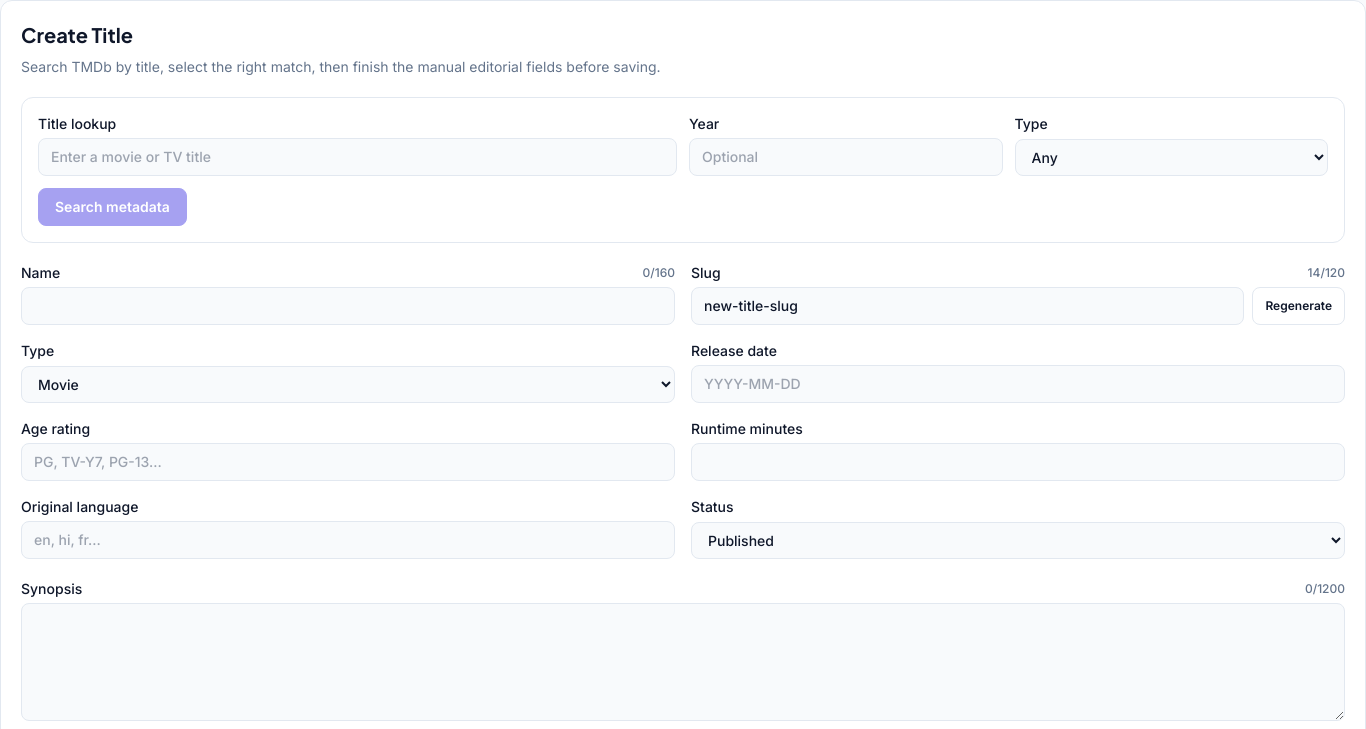
Test case: AdminTitleForm › shows extracted production details in the metadata area after autofill
Type "Severance" into the field labelled "Title lookup". click: (358, 157)
box: 38,138 -> 677,176
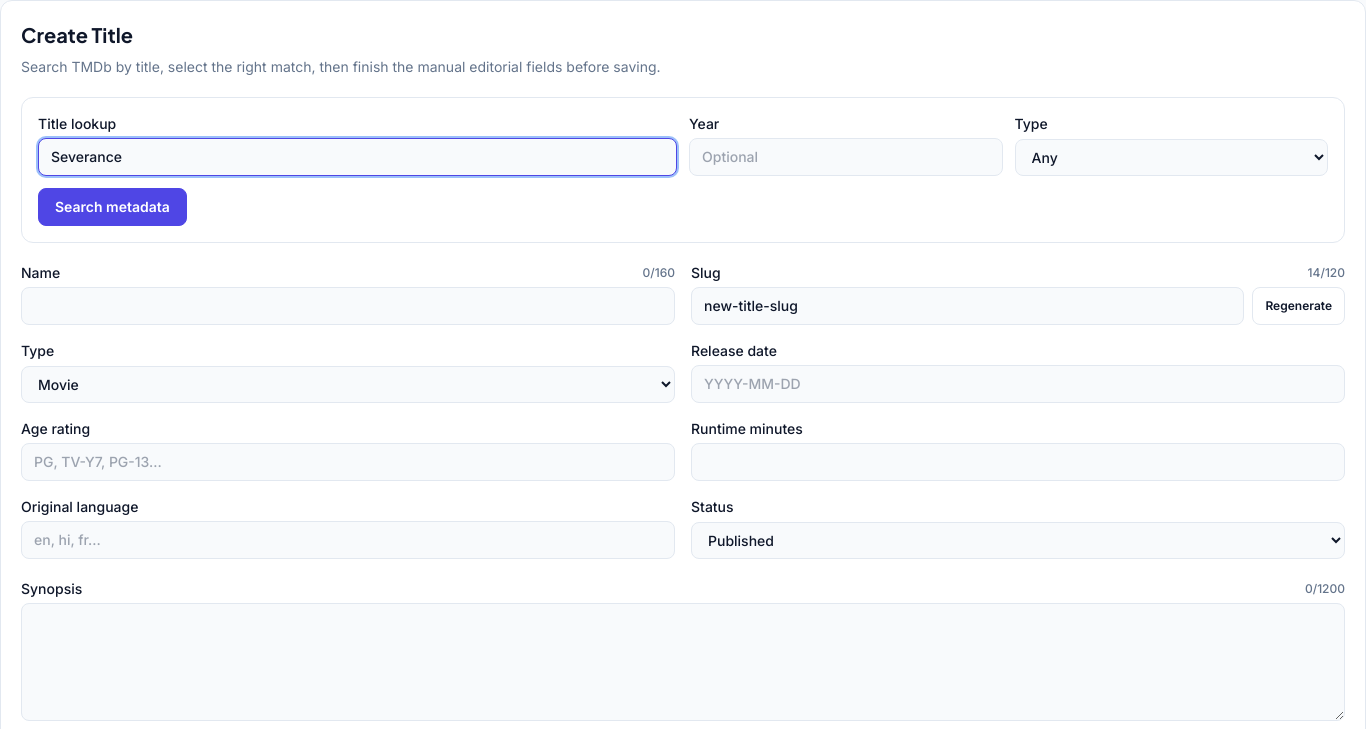
Click the button "Search metadata". click: (112, 207)
box: 38,188 -> 187,226
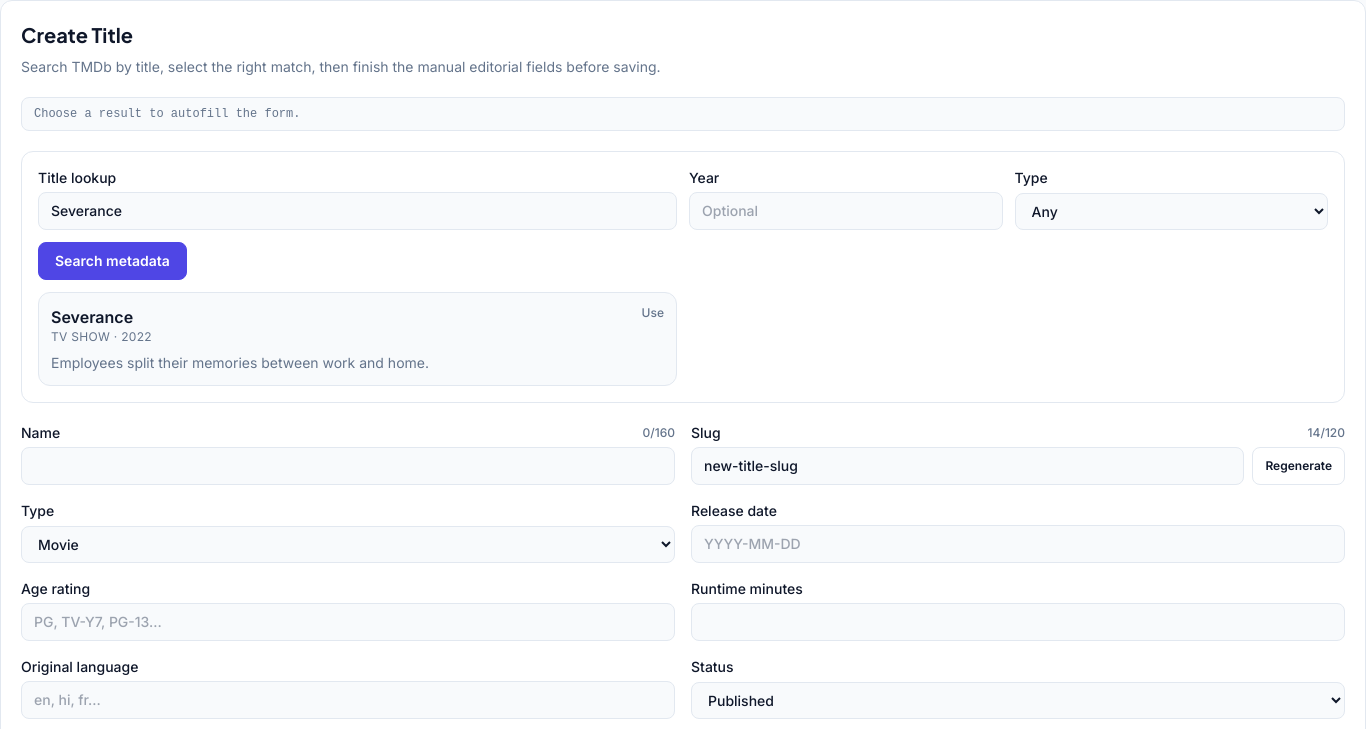
Click the button "Severance". click: (92, 317)
box: 38,292 -> 677,386
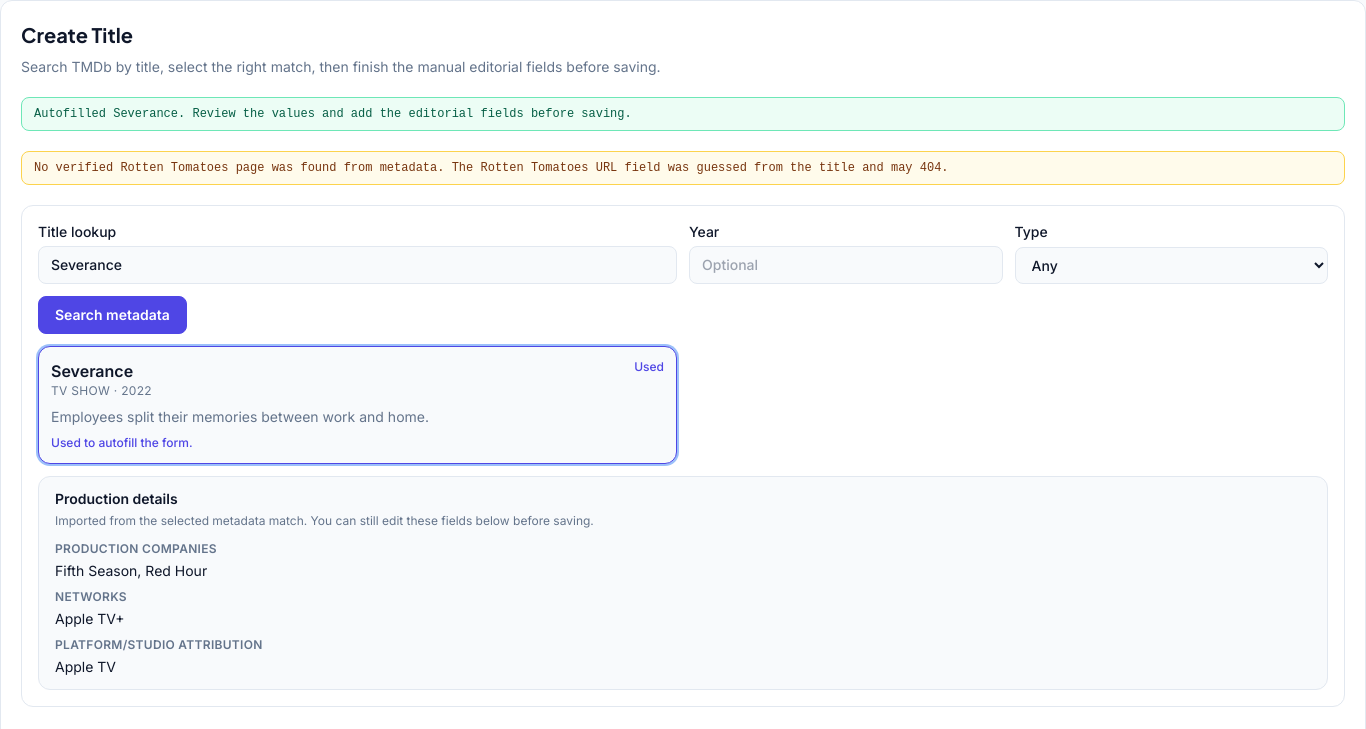
expect the text "Production details" is shown: met, box 55,490 -> 178,507
expect the text "Fifth Season, Red Hour" is shown: met, box 55,562 -> 207,579
expect the text "Apple TV+" is shown: met, box 55,610 -> 124,627
